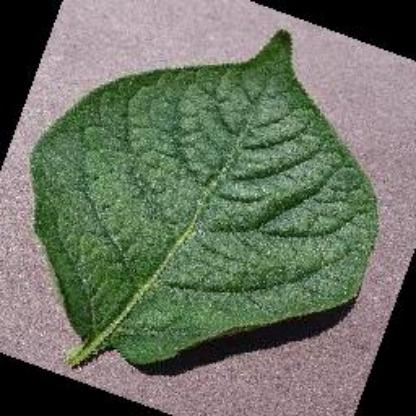Healthy-plant: (30, 27, 382, 378)
